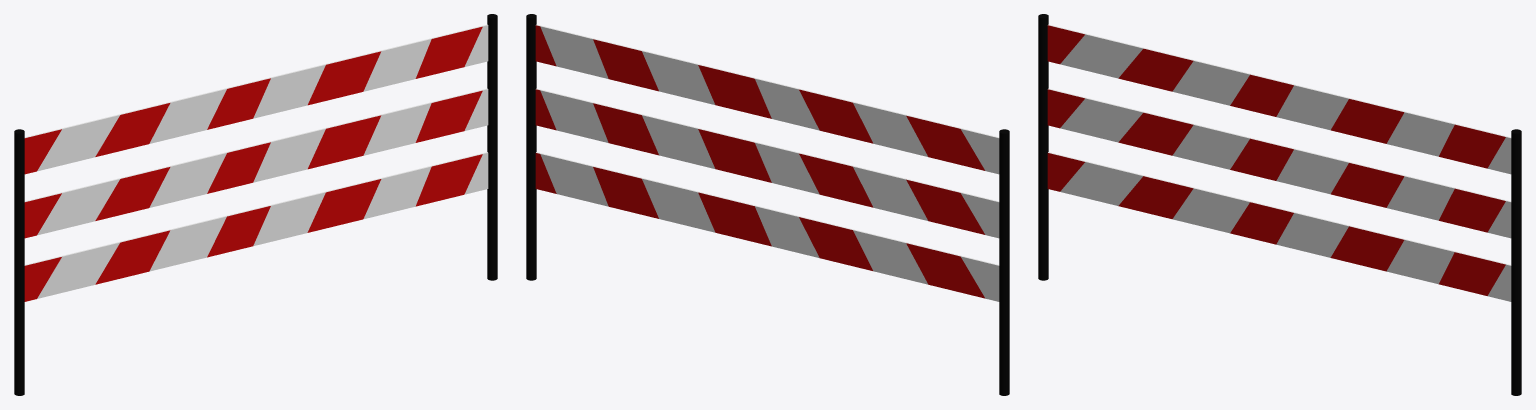
Rendered from fence4.fbx.
The picture shows the model from 3 angles, left to right: view 1: azimuth 30°, elevation 25°; view 2: azimuth 150°, elevation 25°; view 3: azimuth 330°, elevation 25°; orthographic projection.
Visible parts, largest first — view 1: Cylinder.001; view 2: Cylinder.001; view 3: Cylinder.001.
Part boxes in pixels (x1,y1,x2,y2): Cylinder.001: (14,14,497,395); Cylinder.001: (526,14,1009,395); Cylinder.001: (1038,14,1521,395).
Size of the model in its own units: 32.83 by 17.08 by 0.6144.
